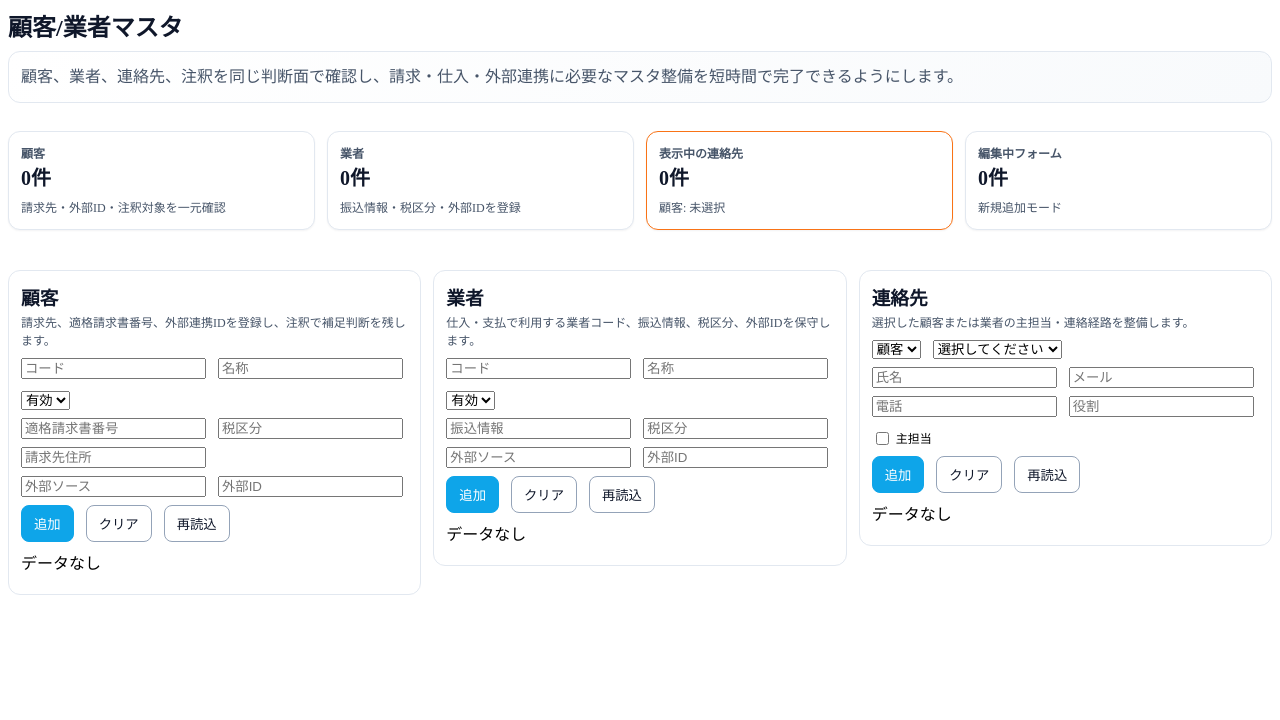
Test case: MasterData › creates a customer and reloads the list
In the field named "顧客コード": {"x": 114, "y": 368} [21,358,206,379], type "C001"
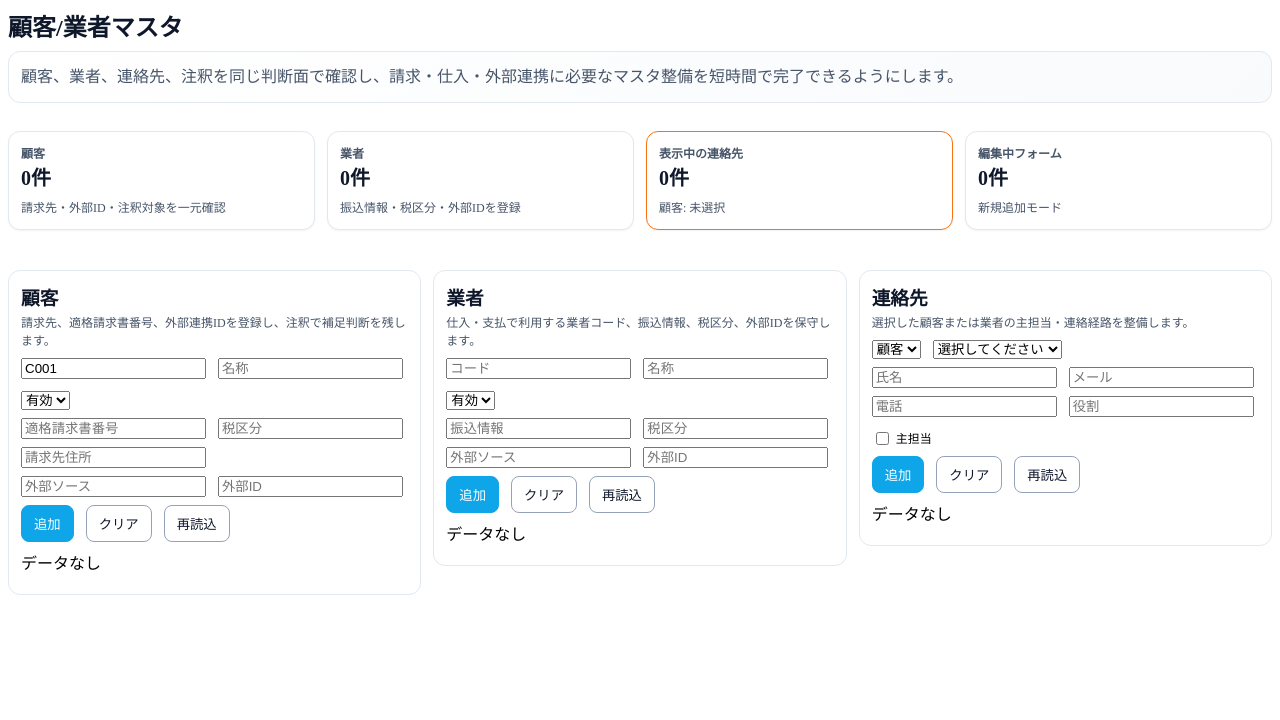
In the field named "顧客名称": {"x": 310, "y": 368} [218,358,403,379], type "Alpha Corp"
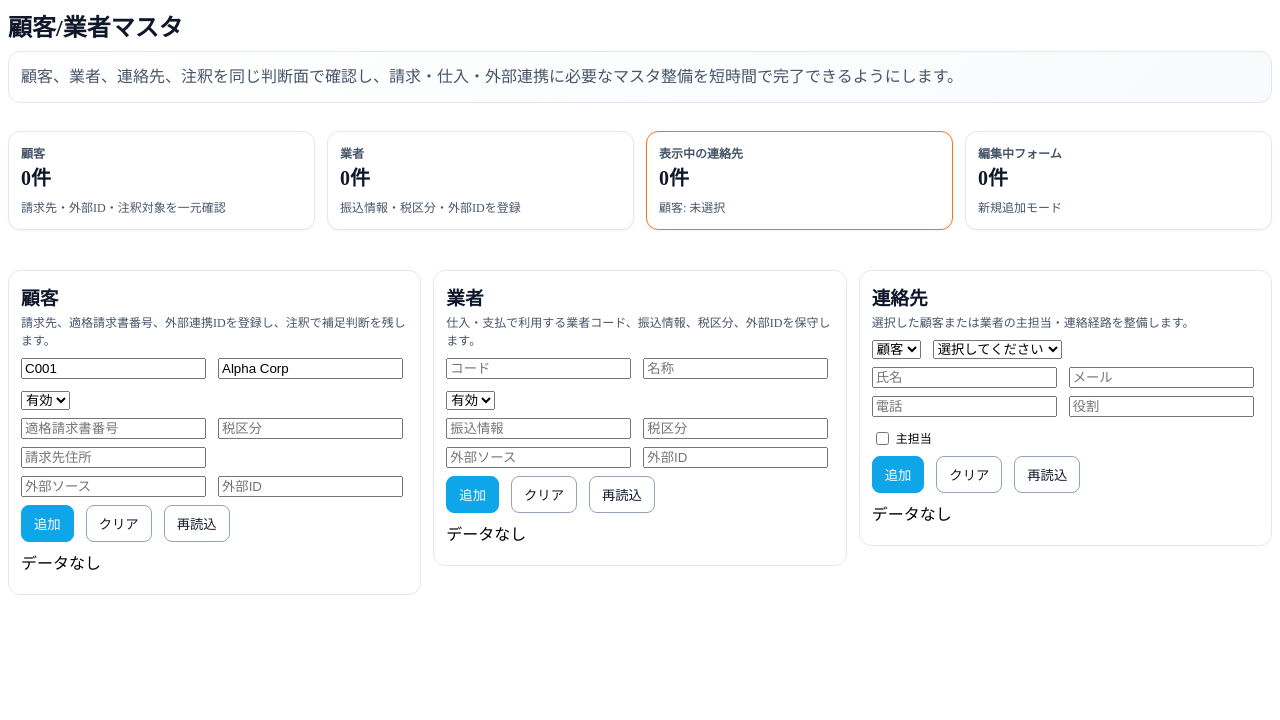
Click the button "追加" below "請求先、適格請求書番号、外部連携IDを登録し、注釈で補足判断を残します。": {"x": 47, "y": 523} [21,505,74,542]
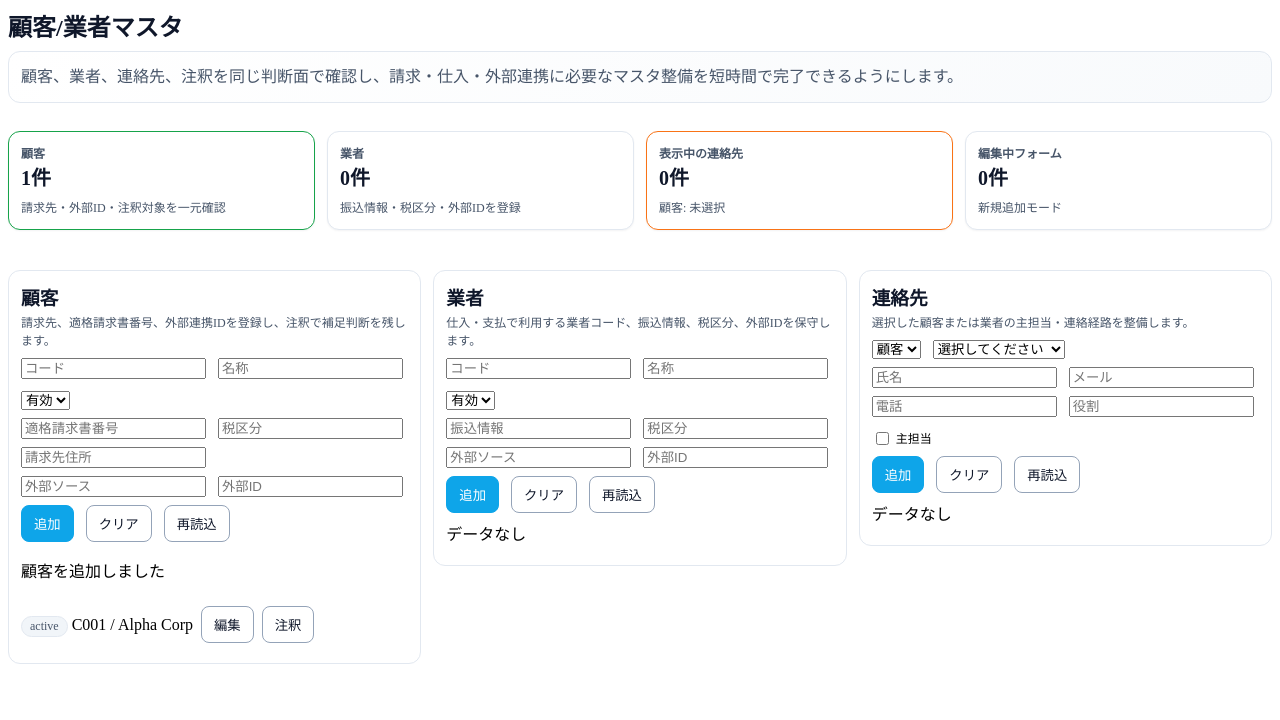
expect the text "顧客を追加しました" is shown: met, box [21,563,165,580]
expect the field named "顧客コード" is empty: met, box [21,358,206,379]
